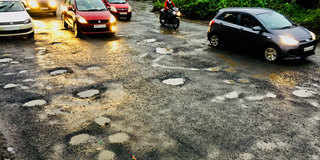pothole: (101, 128, 142, 148), (160, 40, 197, 61), (60, 126, 94, 147), (205, 86, 245, 103), (74, 78, 102, 101), (287, 81, 313, 105), (42, 54, 67, 77), (19, 93, 51, 108)
